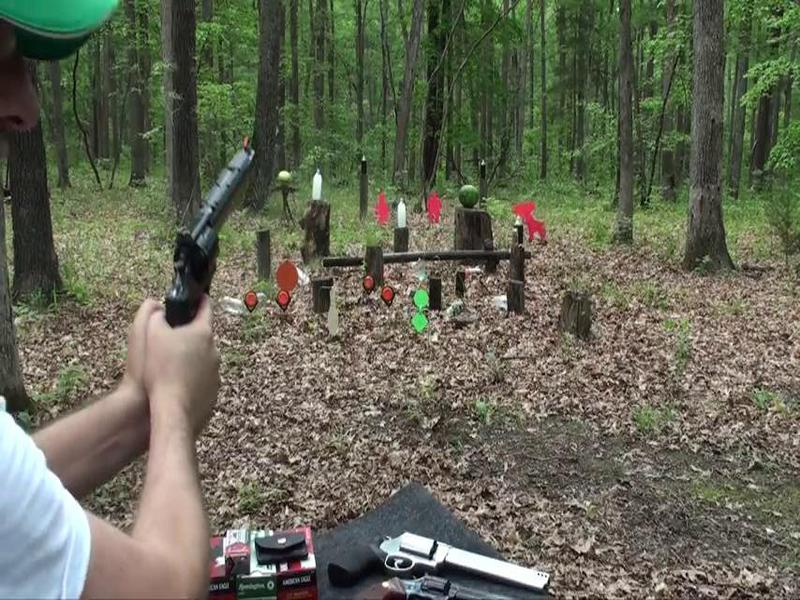Revolver: (142, 127, 269, 344)
